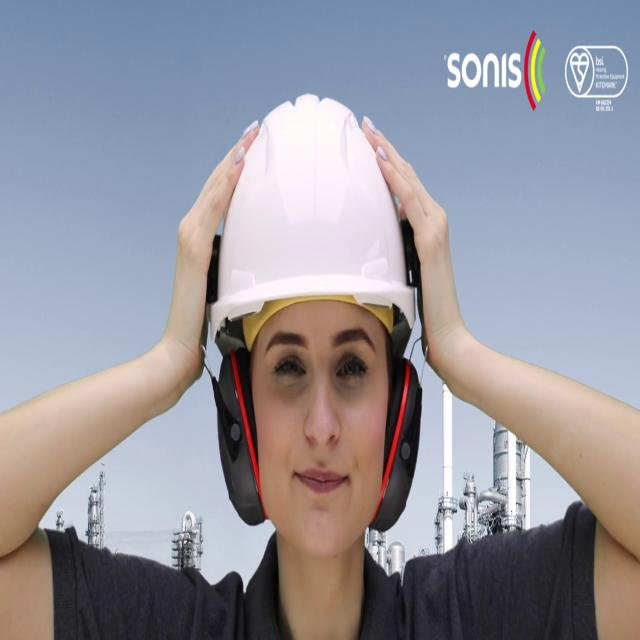earmuff: (210, 341, 272, 529), (367, 351, 426, 542)
helmet: (201, 89, 420, 371)
